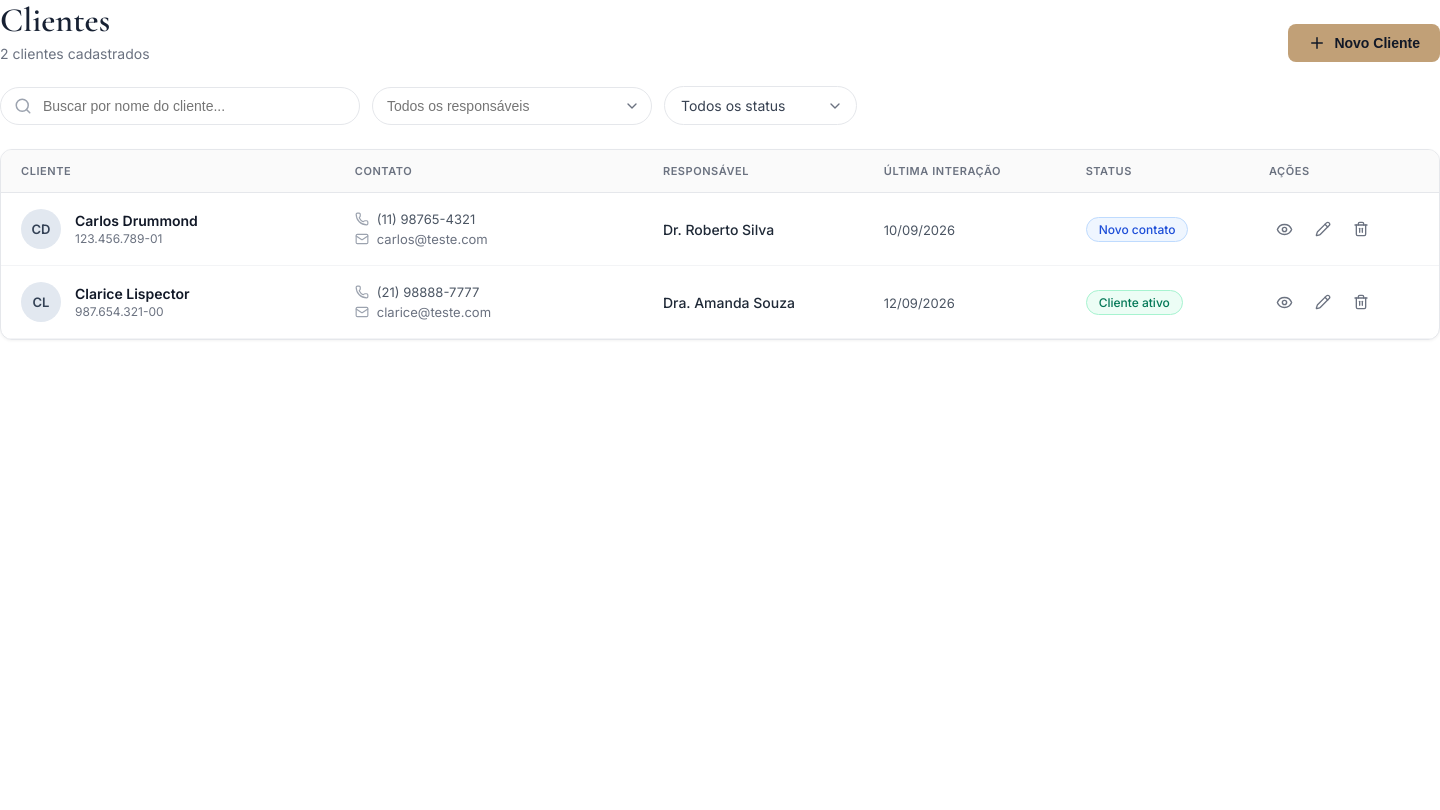
Test case: ClientesClient › abre o modal de detalhes e permite transitar para edição
The image size is (1440, 810).
Click the button named "visualizar detalhes".
click(1285, 229)  # box [1269, 213, 1301, 245]
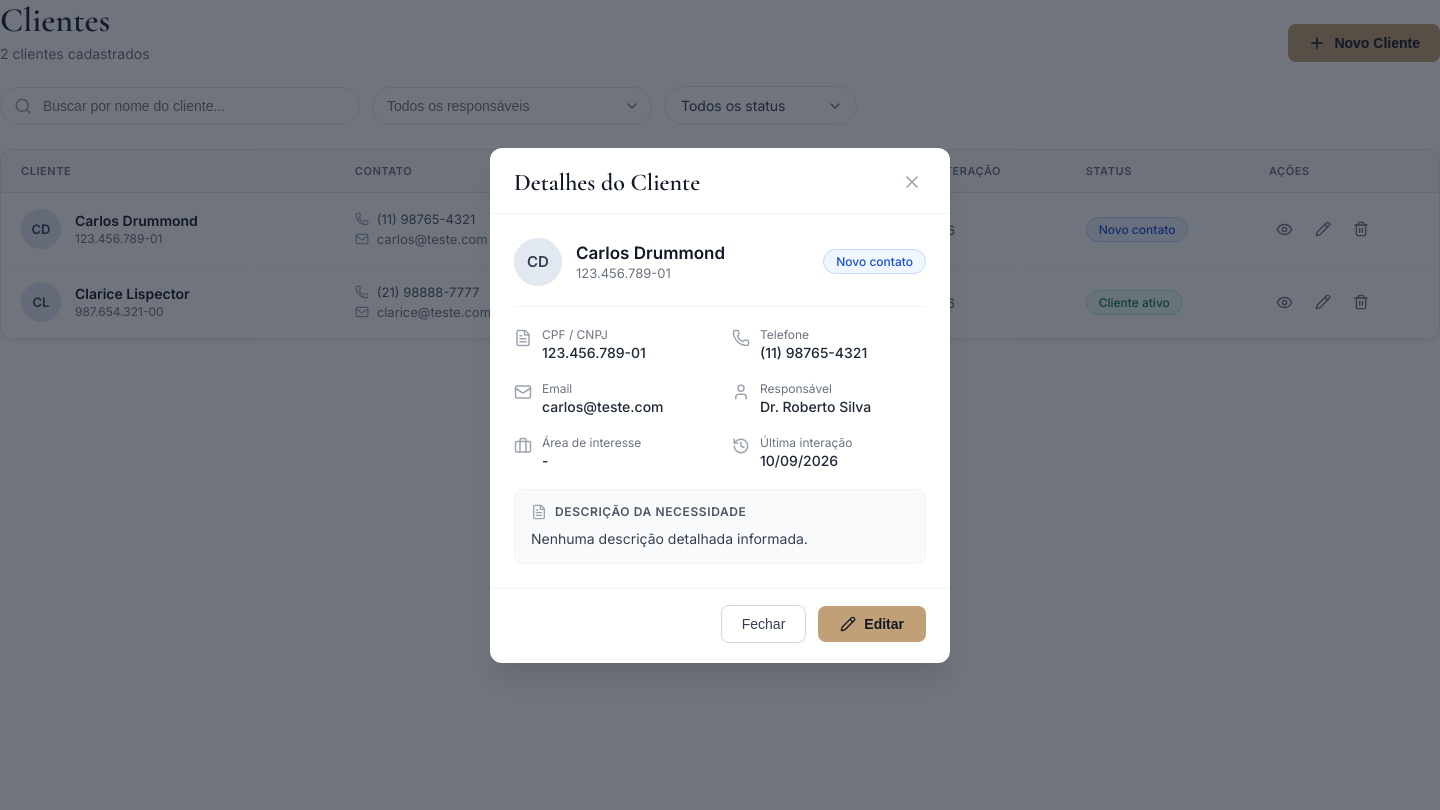
Check: the heading "Detalhes do Cliente" is shown, box [514, 168, 700, 196]
Clica no botão Editar dentro dos detalhes
Click the button "Editar".
click(872, 624)  # box [818, 606, 926, 642]
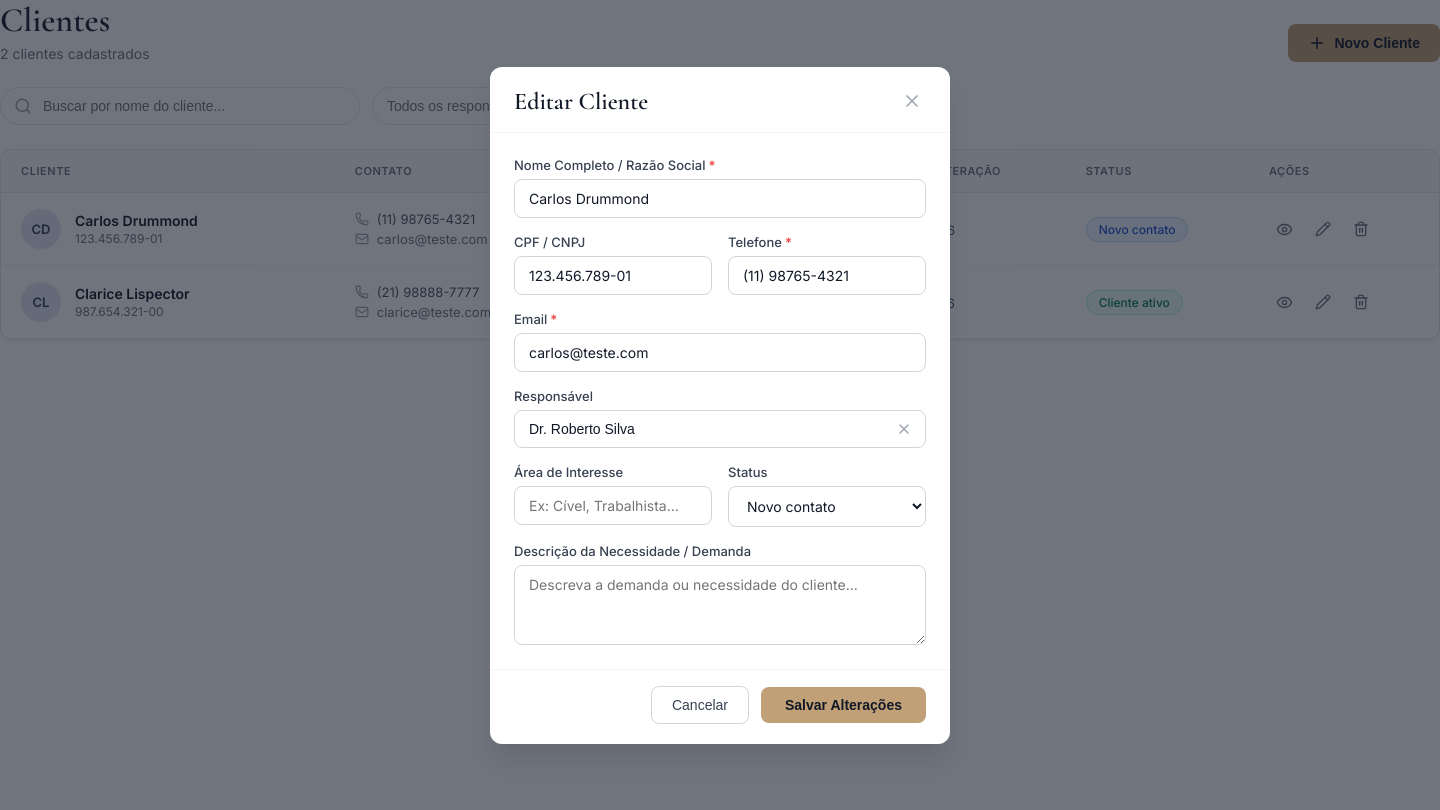
Check: the heading "Detalhes do Cliente" is gone
Check: the heading "Editar Cliente" is shown, box [514, 86, 648, 116]
